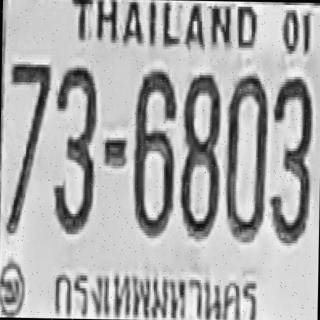N00: (224, 74, 268, 239)
N03: (52, 65, 96, 232), (269, 75, 312, 244)
N06: (132, 69, 176, 236)
N07: (4, 62, 51, 234), (8, 60, 51, 227), (9, 62, 51, 170)
N08: (179, 74, 220, 238)
P04: (48, 262, 262, 320)
